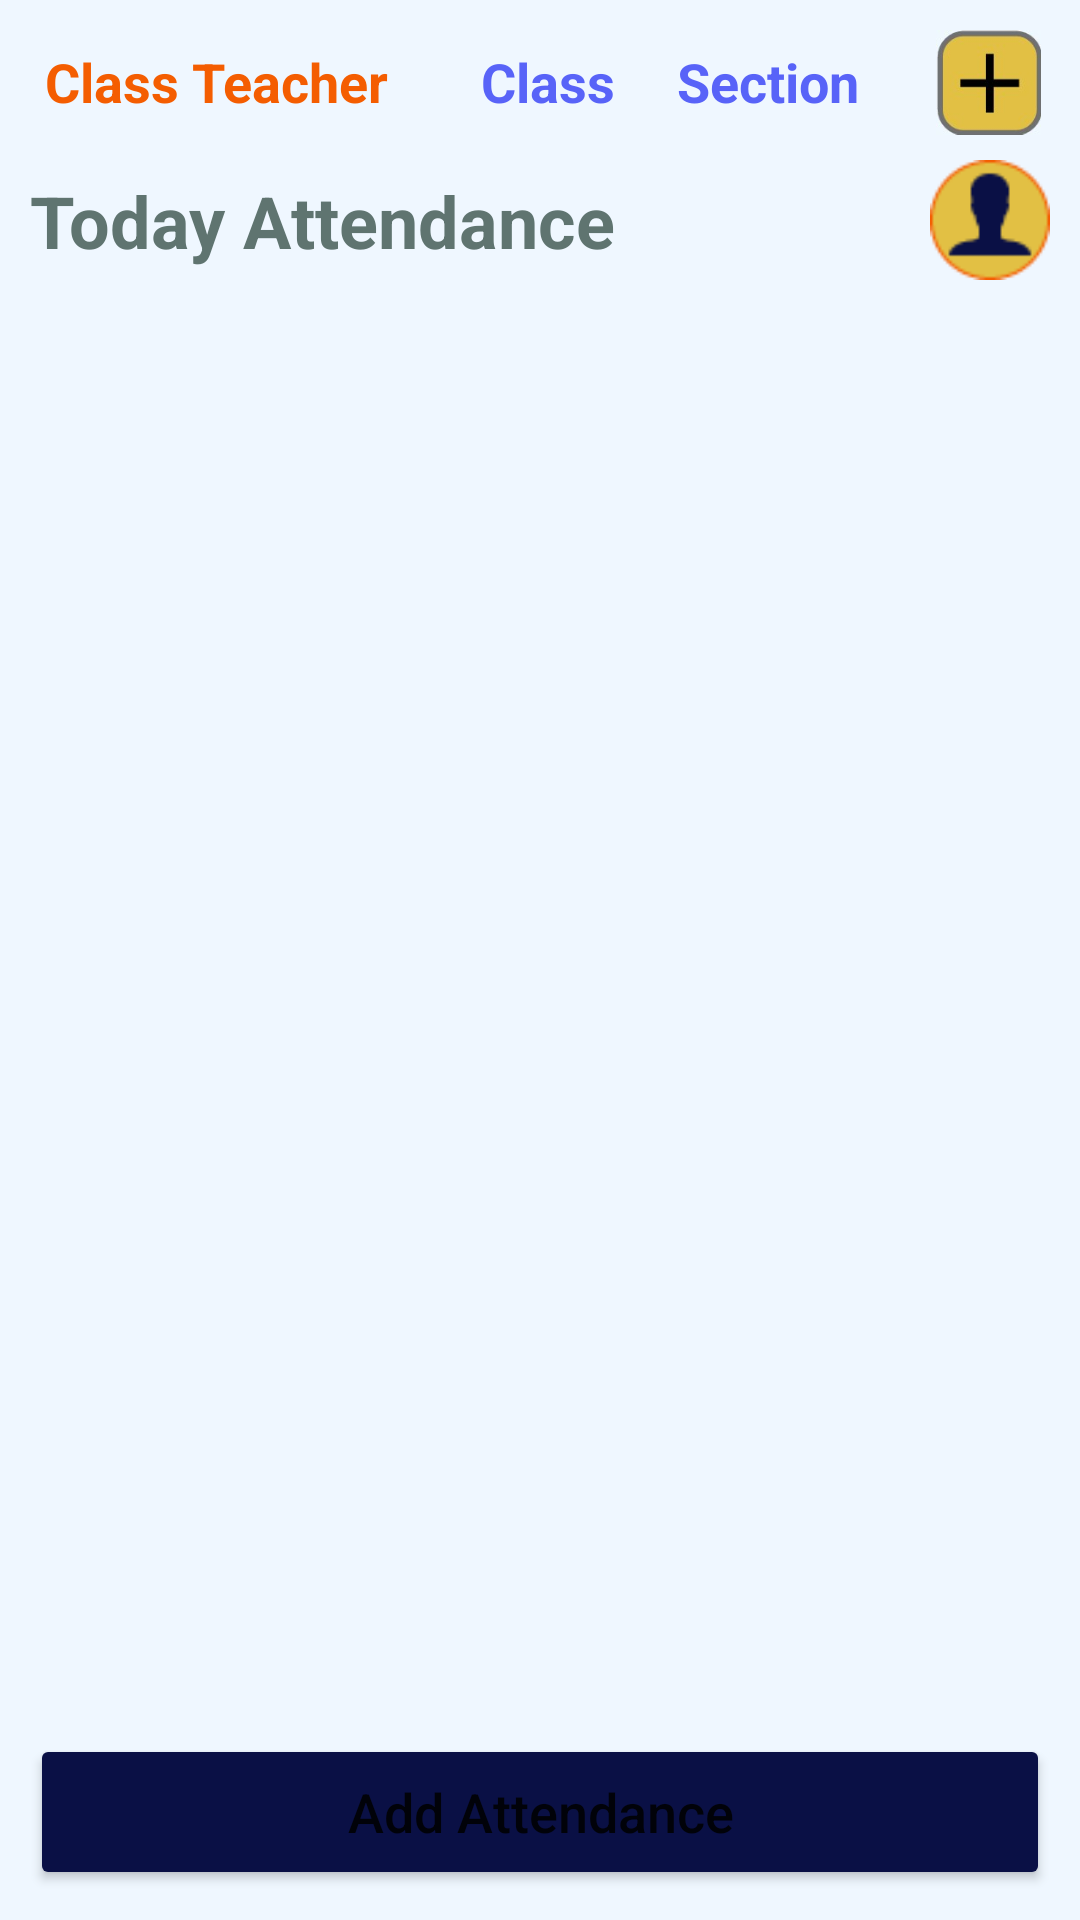

Where icons sit on this 1080x1920 app screen, as (x1, y1, x2, y2):
add teacher: (937, 30, 1041, 135)
